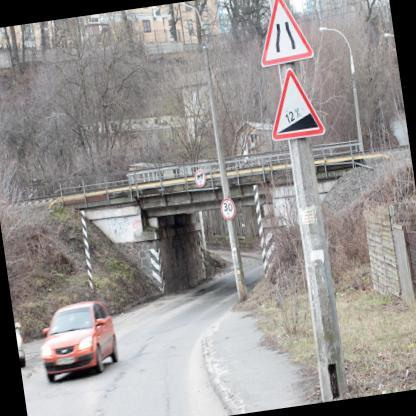road_sign: (272, 69, 325, 141), (261, 0, 313, 67), (220, 199, 235, 220), (195, 169, 205, 187)
